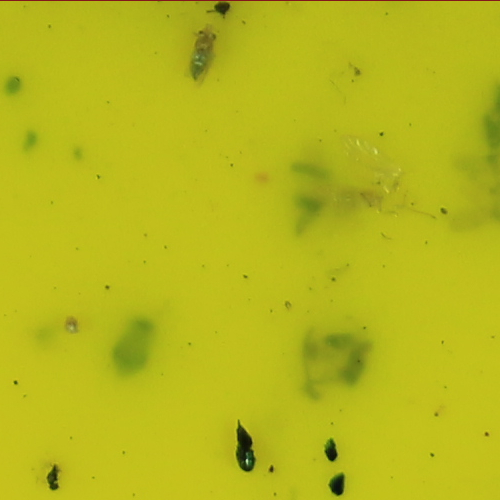psylla: (181, 29, 222, 82)
wasp: (232, 420, 259, 478)
